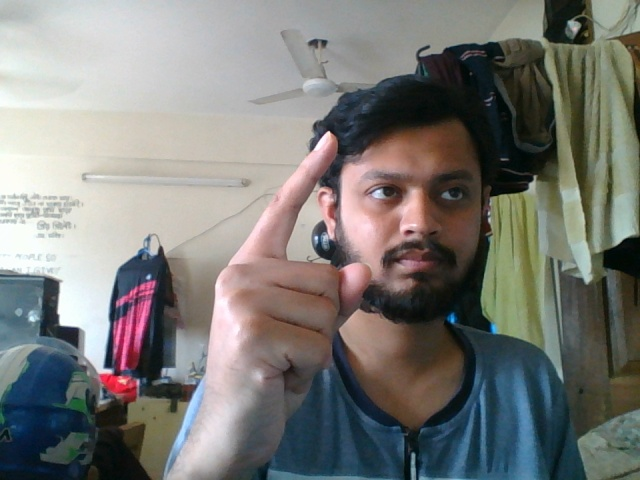u: (198, 126, 375, 442)
